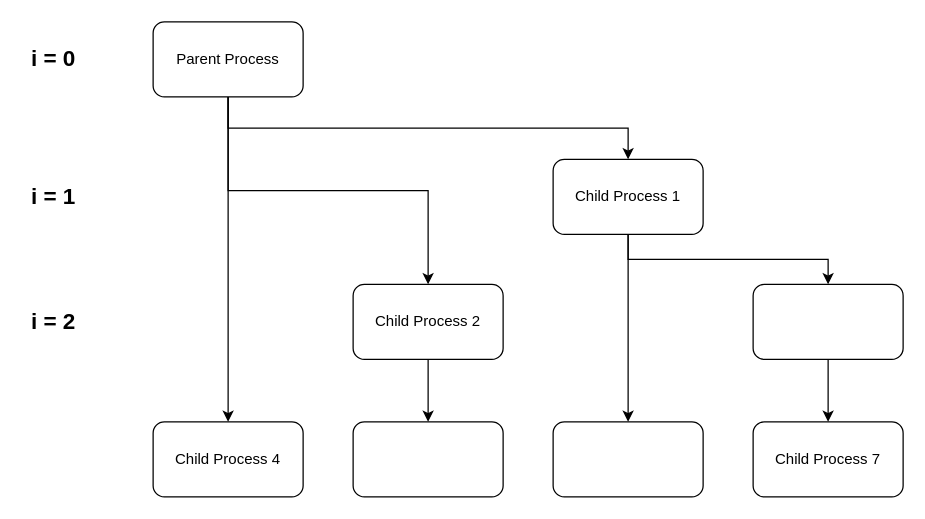
The diagram is 925 pixels wide and 519 high, and some of its shapes have lost their labels. Each missing label, with the box of its shape:
Child Process 3: (752, 283, 903, 359)
Child Process 5: (352, 421, 503, 497)
Child Process 6: (552, 421, 703, 497)
